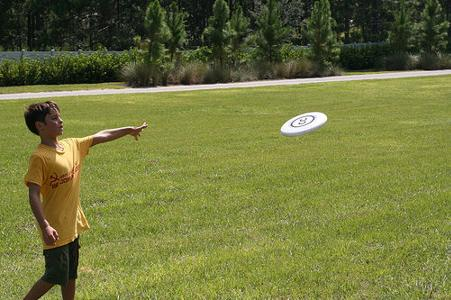person: (21, 102, 150, 300)
